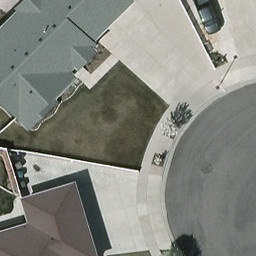car: (192, 0, 224, 36)
